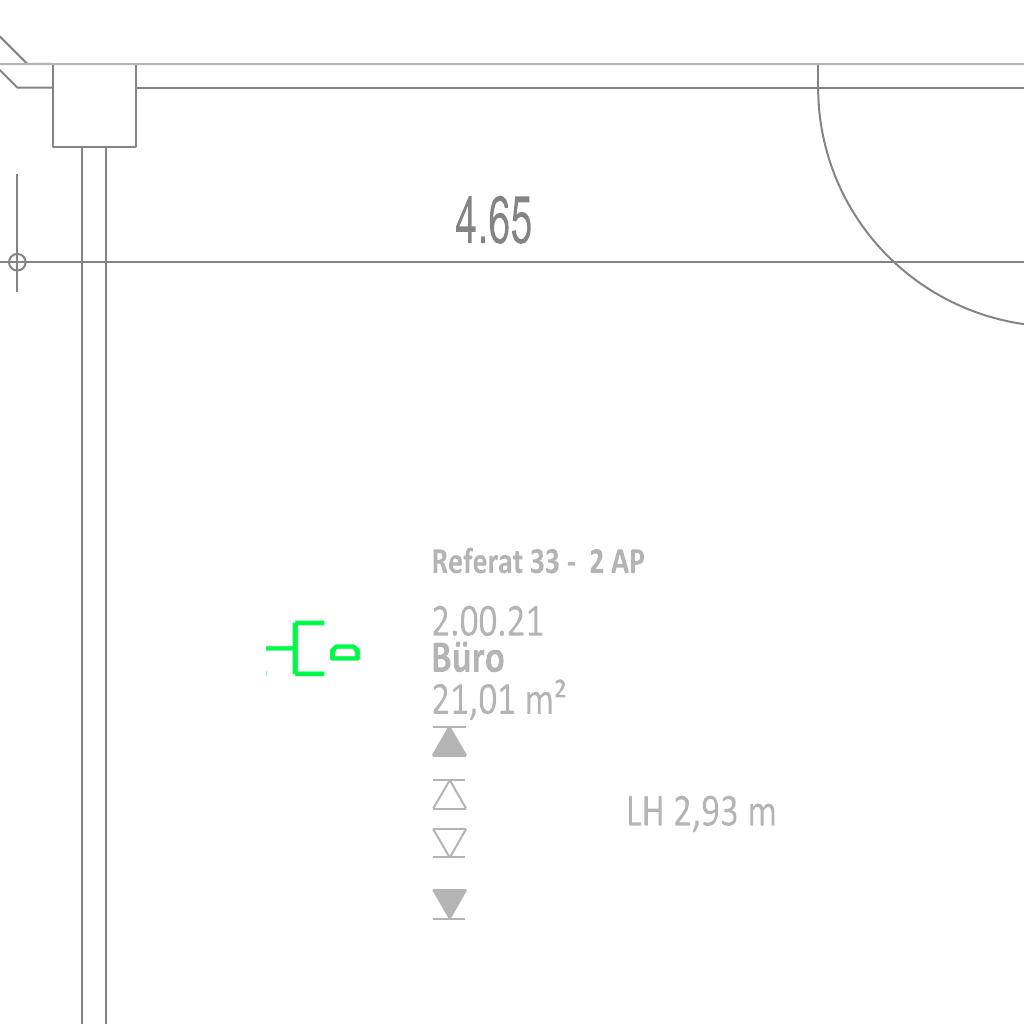Datenanschluss_einfach: (263, 612, 363, 681)
